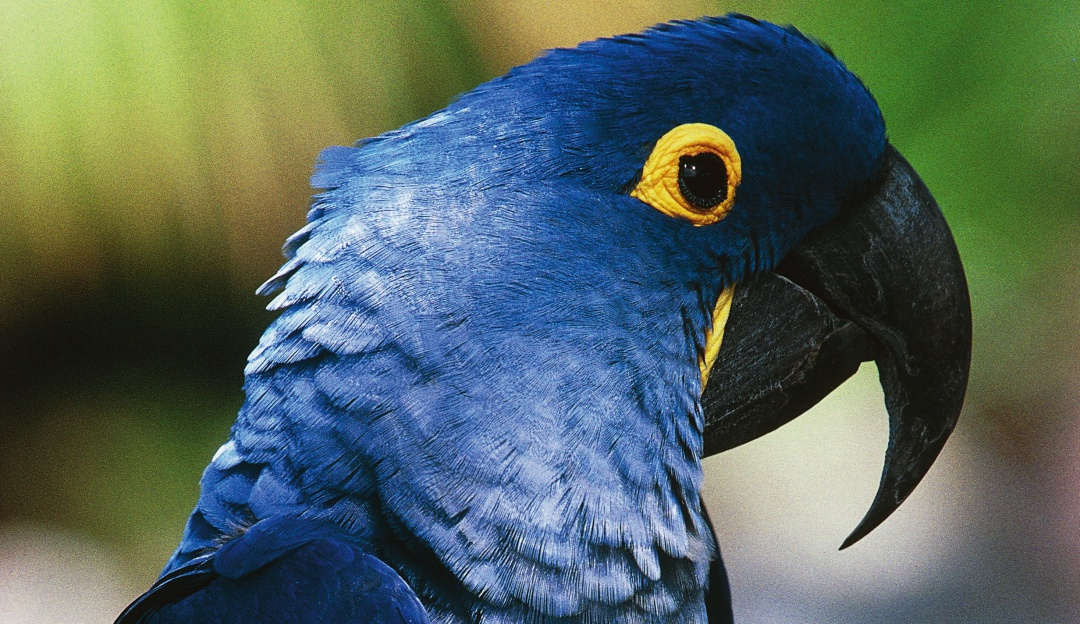guacamaya: (166, 8, 978, 624)
